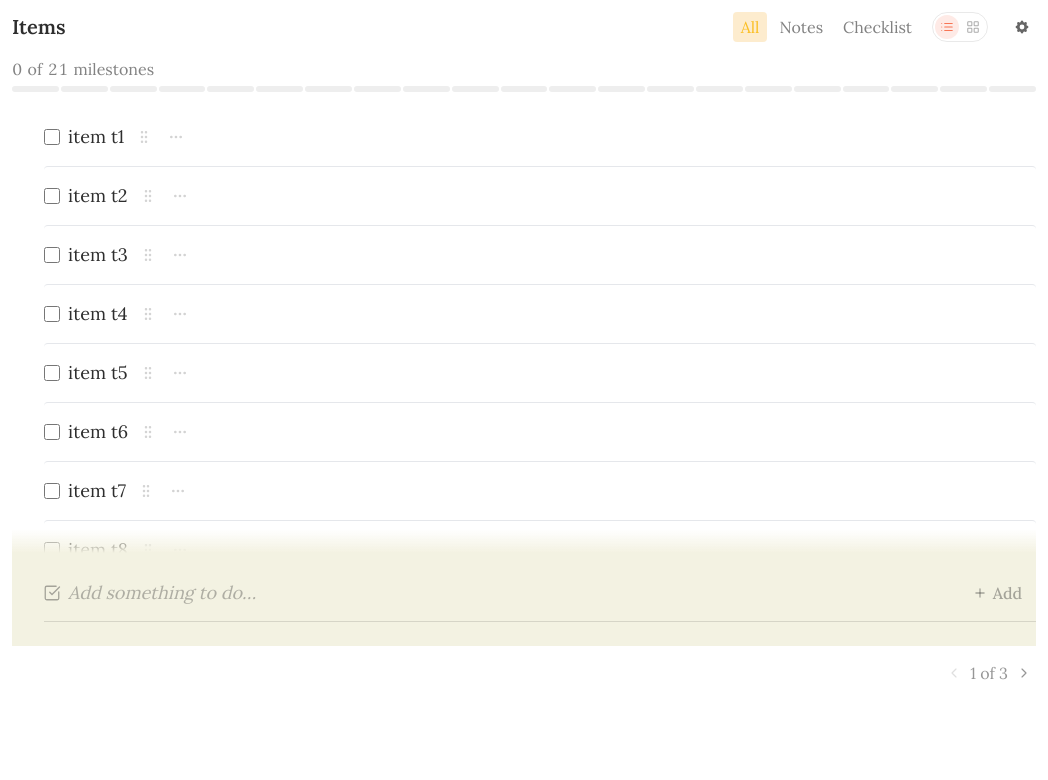
Test: Todo paging › should clamp to the new last page when the current page is archived away
The image size is (1048, 780).
Expected: the text "item t1" is shown, [68, 124, 124, 150]
Expected: the text with test id "page-counter" reads "1 of 3", [970, 662, 1008, 684]
Step 1. Click the button named "Next page" → (1024, 673), box [1016, 665, 1032, 681]
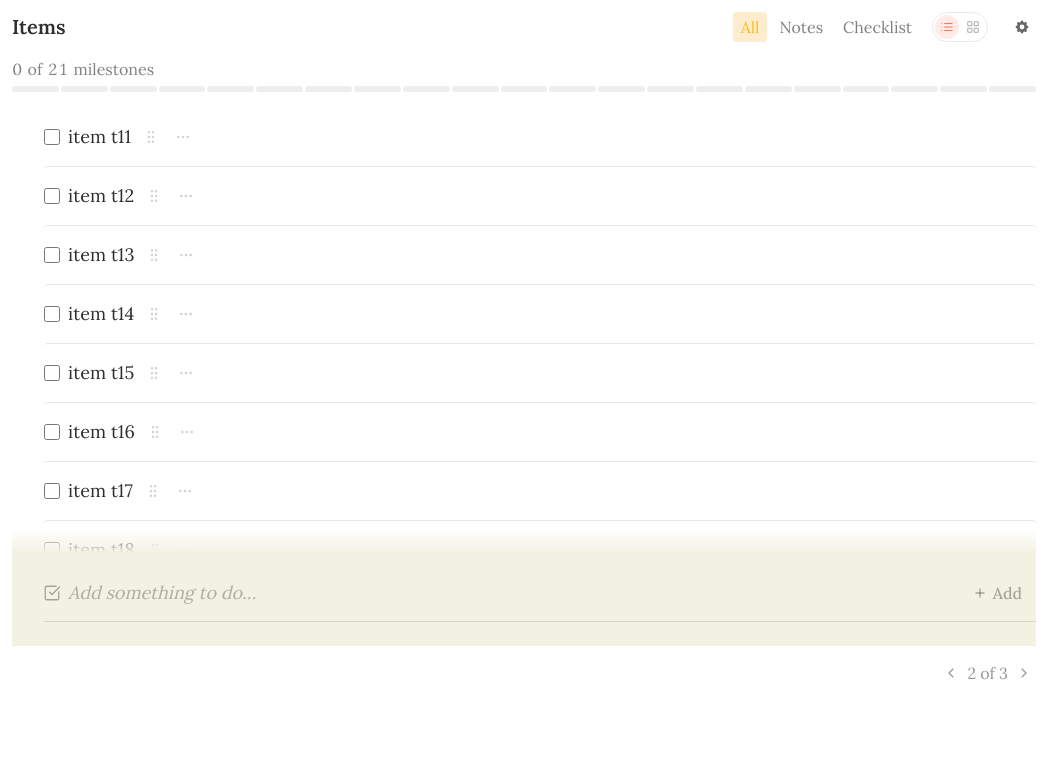
Step 2. Click the button named "Next page" → (1024, 673), box [1016, 665, 1032, 681]
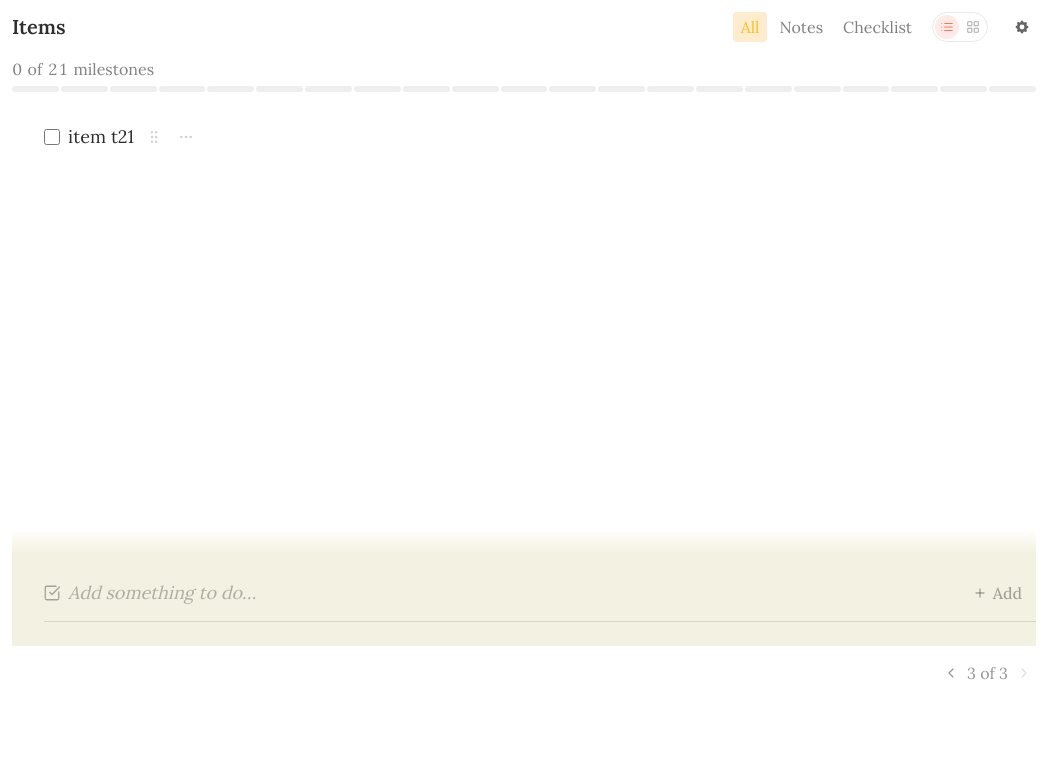
Expected: the text with test id "page-counter" reads "3 of 3", [967, 662, 1008, 684]
Step 3. Click the button named "Actions for" → (186, 137), box [174, 125, 198, 149]
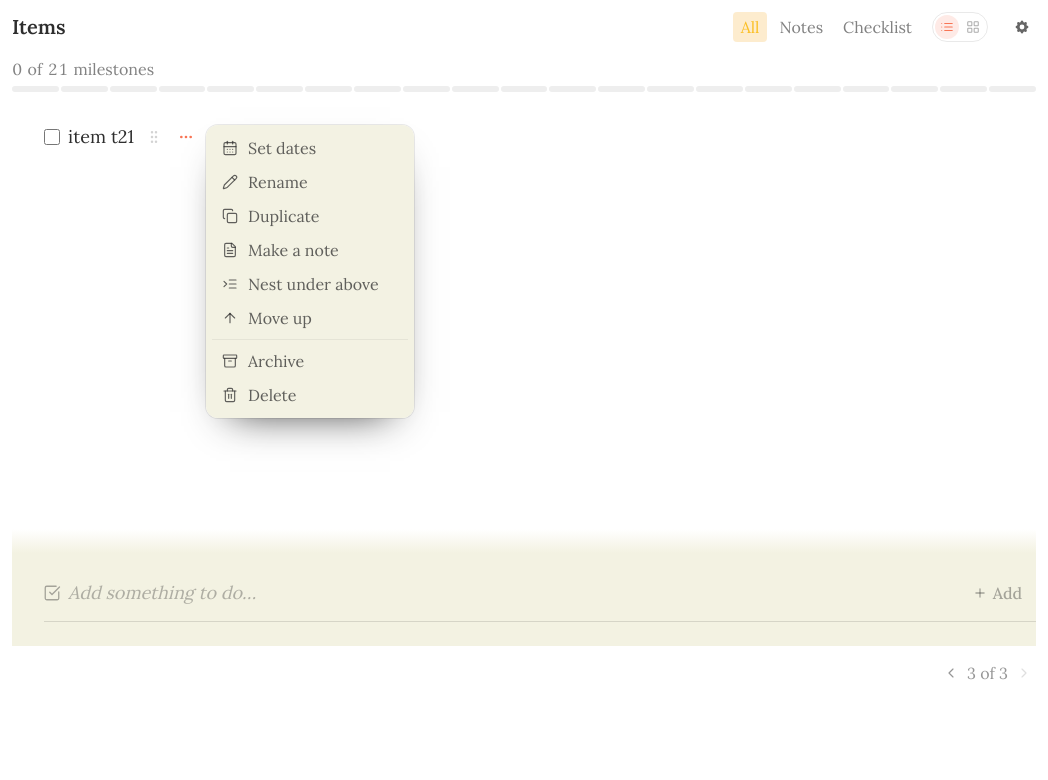
Step 4. Click the menu item "Archive" → (310, 361), box [212, 344, 408, 378]
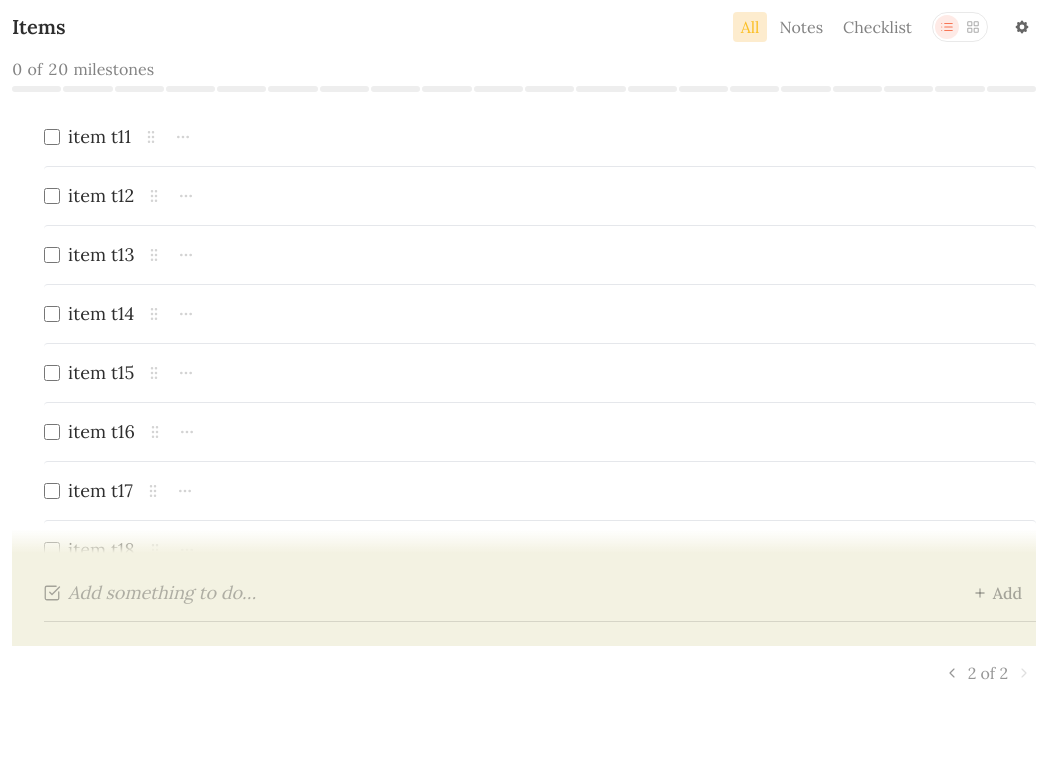
Expected: the text with test id "page-counter" reads "2 of 2", [968, 662, 1008, 684]
